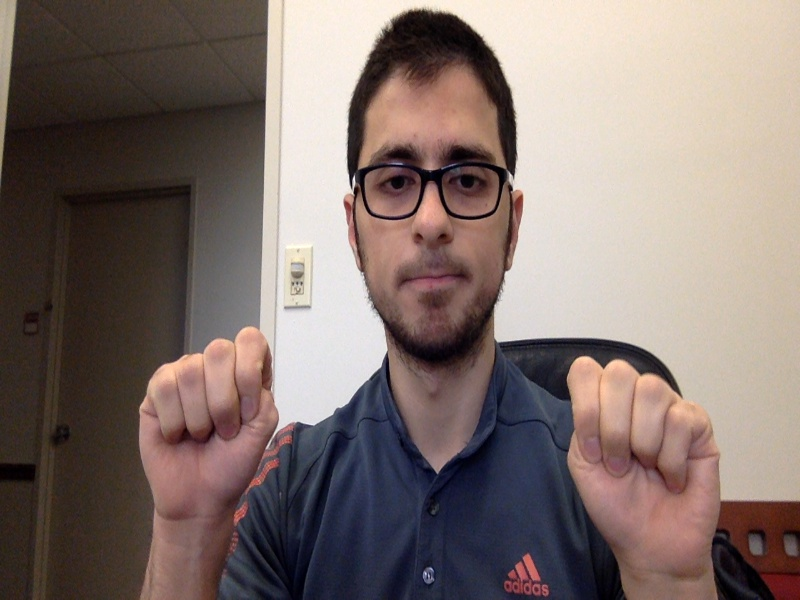0-hand: (565, 357, 720, 568), (138, 328, 278, 520)
